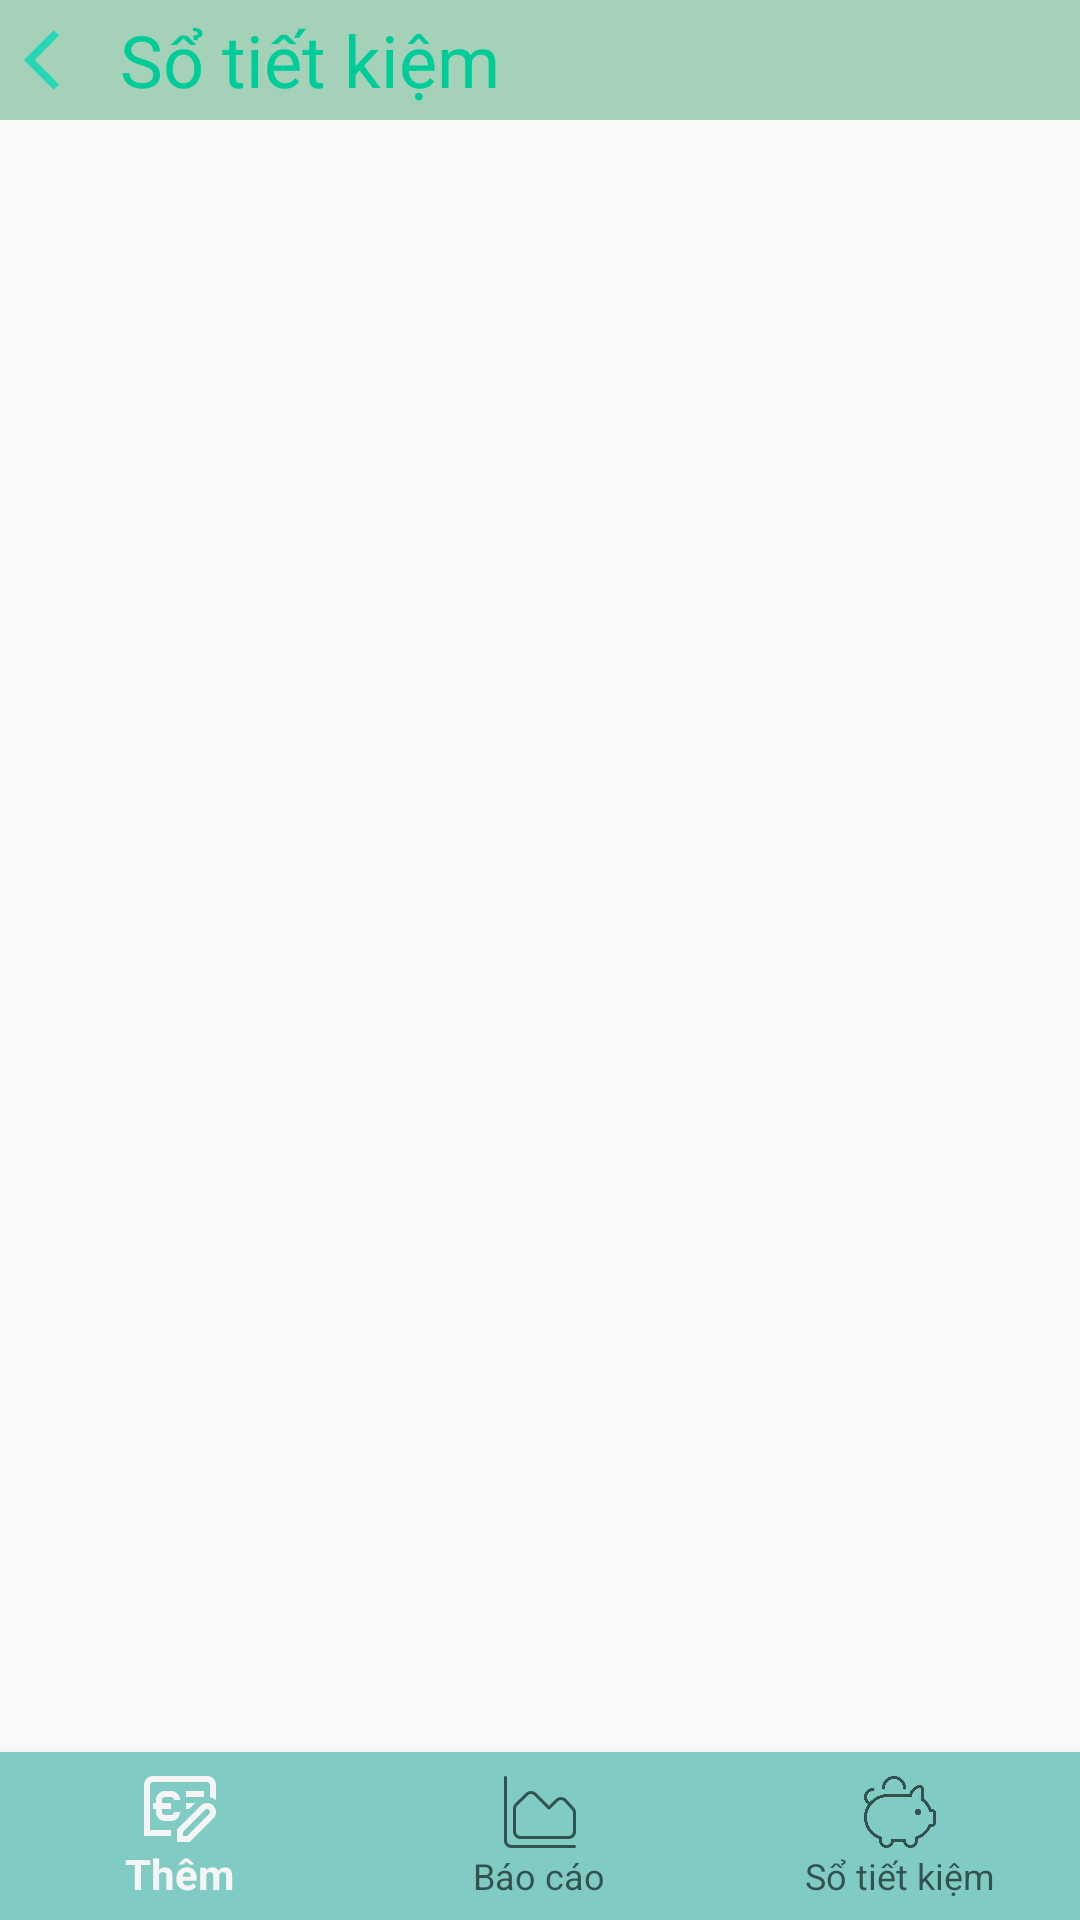

Where to tap for icons on this 1080 x 1920 app screen, as [x,y]:
back: [41,60]
